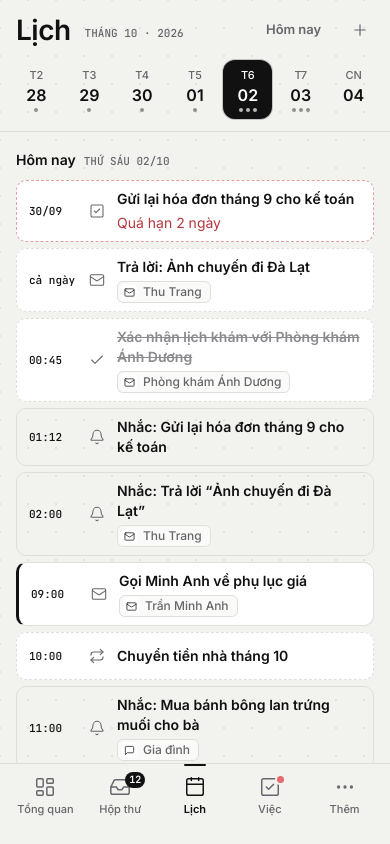
Test: Lịch on a phone › opens an appointment on a page of its own, with a way back and no tab bar
Click the link "09:00 Gọi Minh Anh về phụ lục giá Trần Minh Anh" at point(195, 594), box [16,562,374,626]
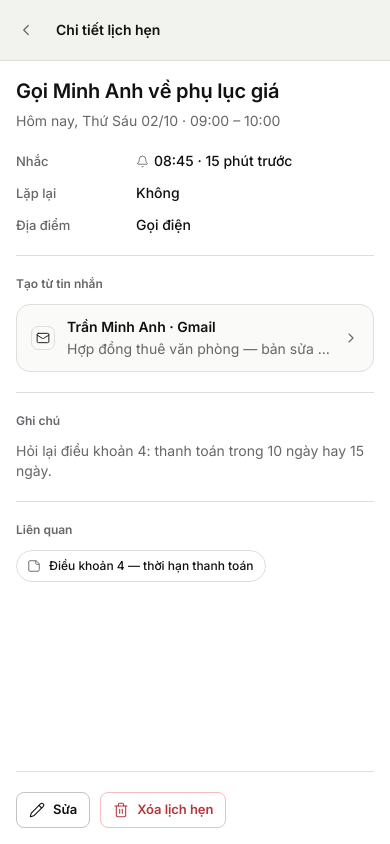
Expected: the heading "Gọi Minh Anh về phụ lục giá" is shown, [16,79,279,103]
Expected: the heading "Chi tiết lịch hẹn" is shown, [56,21,160,38]
